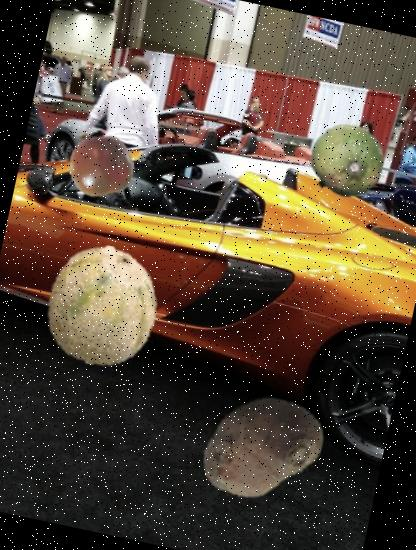Cantaloupe: (31, 234, 174, 378)
Limes: (302, 117, 390, 206)
Potato: (182, 370, 336, 522)
Tomato: (62, 128, 140, 207)
